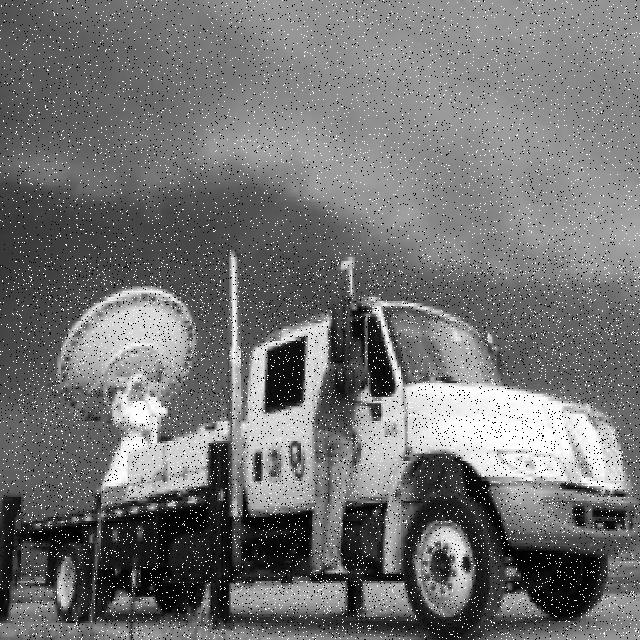Box Truck: (16, 258, 640, 640)
